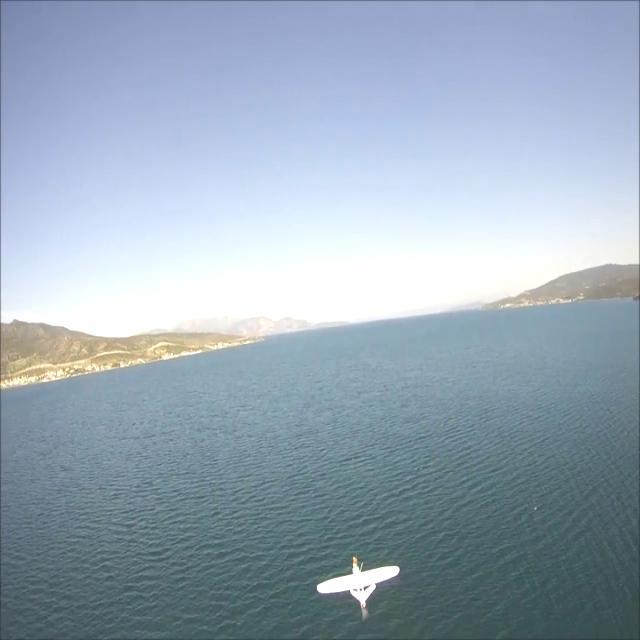iha: (347, 549, 371, 609)
